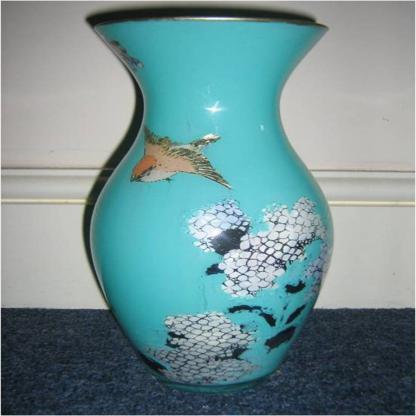vase: (87, 15, 334, 387)
